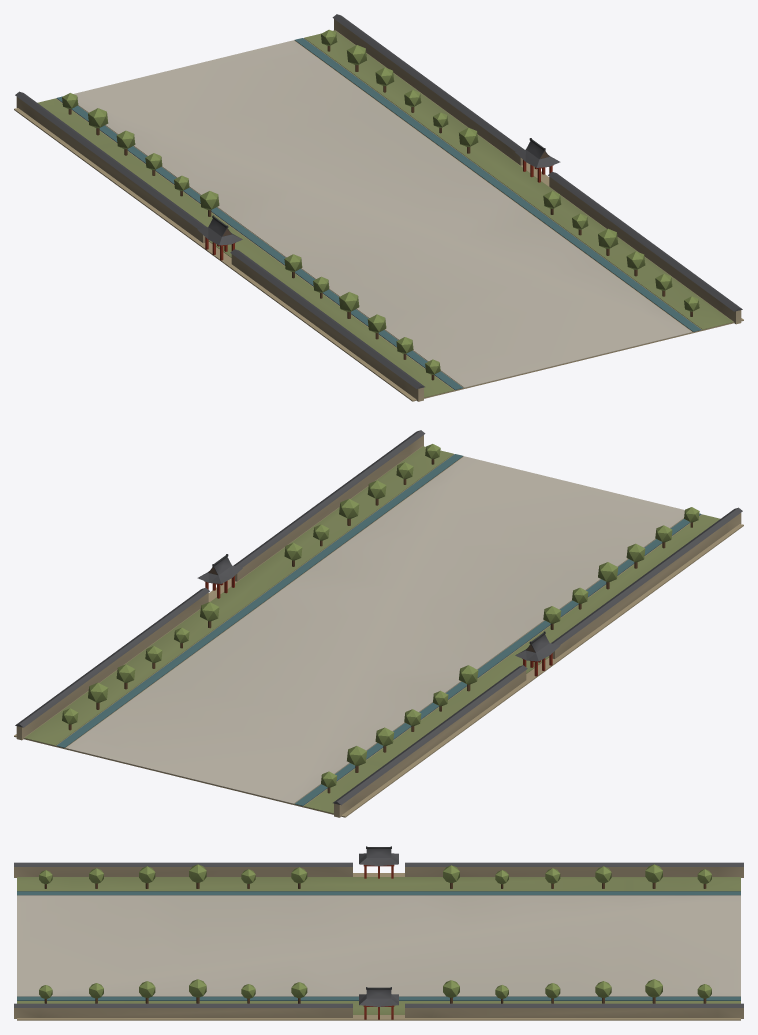
Rendered from suzaku-oji.glb.
3 renders of one model, top to bottom at view 1: azimuth 30°, elevation 25°; view 2: azimuth 150°, elevation 25°; view 3: azimuth 270°, elevation 25°, orthographic. The views are drawn at different scales.
Visible parts, largest first — view 1: p0_grounds, p1_walls, p2_trees; view 2: p0_grounds, p1_walls, p2_trees; view 3: p0_grounds, p1_walls, p2_trees.
Part boxes in pixels (x1,y1,x2,y2): p0_grounds: [14, 30, 743, 401]; p1_walls: [15, 14, 742, 401]; p2_trees: [62, 29, 699, 380]; p0_grounds: [14, 446, 743, 817]; p1_walls: [15, 430, 742, 817]; p2_trees: [62, 444, 699, 793]; p0_grounds: [17, 873, 740, 1020]; p1_walls: [14, 846, 743, 1019]; p2_trees: [39, 864, 711, 1003].
Size of the model in its own units: 99 by 9.24 by 202.
